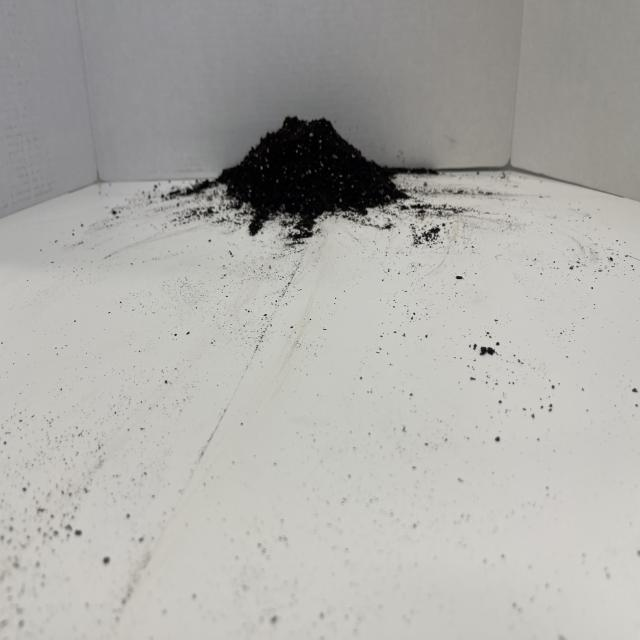soil: (214, 112, 410, 242)
